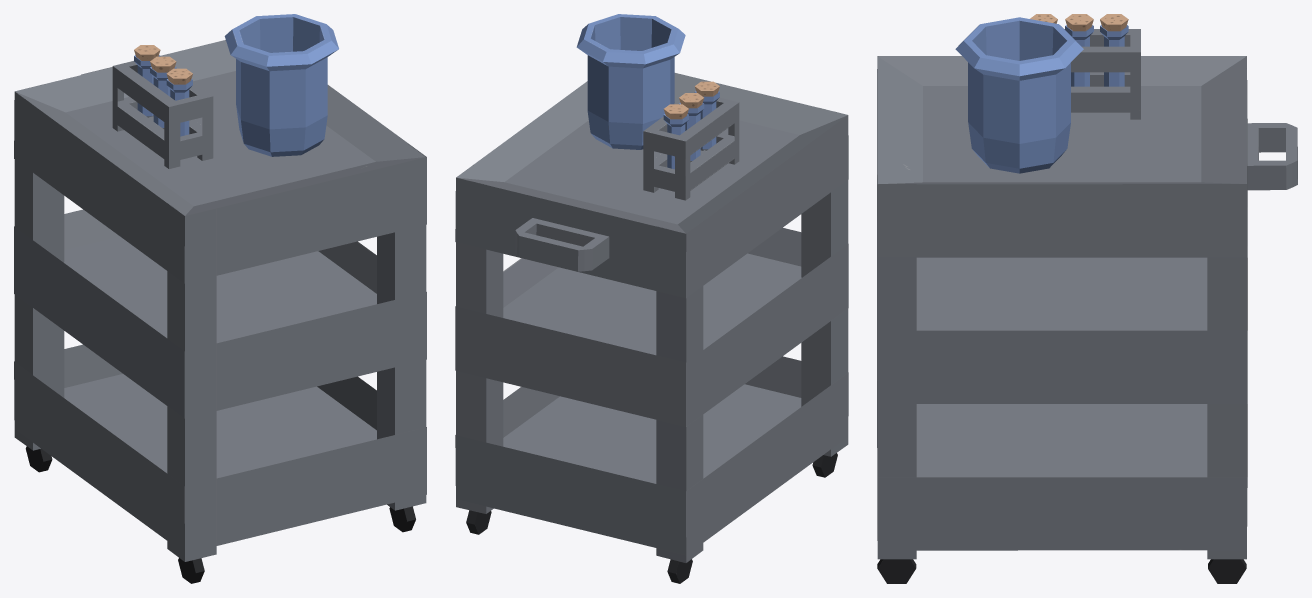
The model's file is MediCart.fbx.
3 views of the same model, side by side, from view 1: azimuth 30°, elevation 25°; view 2: azimuth 150°, elevation 25°; view 3: azimuth 270°, elevation 25° (orthographic). The views are drawn at different scales.
Parts seen in each view (by area): view 1: Cart, Cylinder, Tube Holder; view 2: Cart, Cylinder, Tube Holder; view 3: Cart, Cylinder, Tube Holder.
Part boxes in pixels (<box>): Cart: <box>14,40,426,583</box>; Cylinder: <box>224,14,338,156</box>; Tube Holder: <box>112,45,213,168</box>; Cart: <box>455,73,848,583</box>; Cylinder: <box>576,14,685,149</box>; Tube Holder: <box>643,81,739,200</box>; Cart: <box>877,56,1297,583</box>; Cylinder: <box>955,17,1083,173</box>; Tube Holder: <box>1030,14,1140,119</box>.
Size of the model in its own units: 81.61 by 150 by 113.
Materials: 3 (3 with a texture image).
